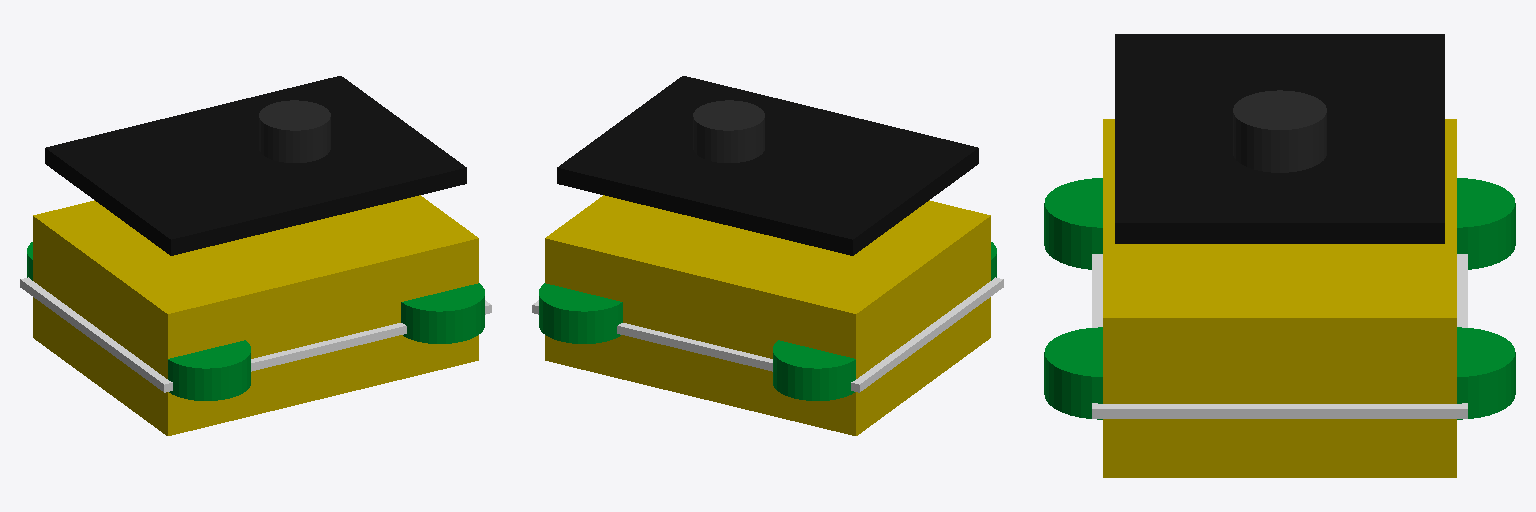
The robot description file, URDF, robot "robie":
<?xml version="1.0" ?>
<robot name="robie">
<link name="base_link">
<visual><geometry><box size="0.40 0.30 0.15"/></geometry><material name="yellow"><color rgba="0.8 0.7 0.0 1.0"/></material></visual>
<collision><geometry><box size="0.40 0.30 0.15"/></geometry></collision>
<inertial><mass value="8.0"/><inertia ixx="0.05" ixy="0.0" ixz="0.0" iyy="0.05" iyz="0.0" izz="0.08"/></inertial>
</link>
<link name="top_plate">
<visual><geometry><box size="0.38 0.28 0.02"/></geometry><material name="black"><color rgba="0.1 0.1 0.1 1.0"/></material></visual>
</link>
<joint name="top_plate_joint" type="fixed"><parent link="base_link"/><child link="top_plate"/><origin xyz="0 0 0.15" rpy="0 0 0"/></joint>
<link name="base_plate">
<visual><geometry><box size="0.42 0.32 0.01"/></geometry><material name="white"><color rgba="0.9 0.9 0.9 1.0"/></material></visual>
</link>
<joint name="base_plate_joint" type="fixed"><parent link="base_link"/><child link="base_plate"/><origin xyz="0 0 -0.01" rpy="0 0 0"/></joint>
<link name="lidar_link">
<visual><geometry><cylinder radius="0.04" length="0.06"/></geometry><material name="lidar_black"><color rgba="0.2 0.2 0.2 1.0"/></material></visual>
</link>
<joint name="lidar_joint" type="fixed"><parent link="top_plate"/><child link="lidar_link"/><origin xyz="0.05 0 0.02" rpy="0 0 0"/></joint>
<link name="front_left_wheel">
<visual><geometry><cylinder radius="0.05" length="0.04"/></geometry><material name="green"><color rgba="0.0 0.6 0.2 1.0"/></material></visual>
</link>
<joint name="front_left_wheel_joint" type="continuous"><parent link="base_link"/><child link="front_left_wheel"/><origin xyz="0.15 0.15 0.0" rpy="0 0 0"/><axis xyz="0 1 0"/></joint>
<link name="front_right_wheel">
<visual><geometry><cylinder radius="0.05" length="0.04"/></geometry><material name="green"><color rgba="0.0 0.6 0.2 1.0"/></material></visual>
</link>
<joint name="front_right_wheel_joint" type="continuous"><parent link="base_link"/><child link="front_right_wheel"/><origin xyz="0.15 -0.15 0.0" rpy="0 0 0"/><axis xyz="0 1 0"/></joint>
<link name="rear_left_wheel">
<visual><geometry><cylinder radius="0.05" length="0.04"/></geometry><material name="green"><color rgba="0.0 0.6 0.2 1.0"/></material></visual>
</link>
<joint name="rear_left_wheel_joint" type="continuous"><parent link="base_link"/><child link="rear_left_wheel"/><origin xyz="-0.15 0.15 0.0" rpy="0 0 0"/><axis xyz="0 1 0"/></joint>
<link name="rear_right_wheel">
<visual><geometry><cylinder radius="0.05" length="0.04"/></geometry><material name="green"><color rgba="0.0 0.6 0.2 1.0"/></material></visual>
</link>
<joint name="rear_right_wheel_joint" type="continuous"><parent link="base_link"/><child link="rear_right_wheel"/><origin xyz="-0.15 -0.15 0.0" rpy="0 0 0"/><axis xyz="0 1 0"/></joint>
<gazebo reference="base_link"><material>Gazebo/Yellow</material></gazebo>
<gazebo reference="lidar_link">
<sensor type="ray" name="rplidar">
<pose>0 0 0.03 0 0 0</pose>
<update_rate>10</update_rate>
<ray>
<scan><horizontal><samples>360</samples><resolution>1</resolution><min_angle>-3.14159</min_angle><max_angle>3.14159</max_angle></horizontal></scan>
<range><min>0.15</min><max>12.0</max><resolution>0.01</resolution></range>
</ray>
<plugin name="gazebo_ros_laser" filename="libgazebo_ros_ray_sensor.so">
<ros><remapping>~/out:=/scan</remapping></ros>
<output_type>sensor_msgs/LaserScan</output_type>
<frame_name>lidar_link</frame_name>
</plugin>
</sensor>
</gazebo>
<gazebo>
<plugin name="mecanum_drive" filename="libgazebo_ros_planar_move.so">
<ros><remapping>cmd_vel:=cmd_vel</remapping><remapping>odom:=odom</remapping></ros>
<update_rate>100</update_rate>
<publish_odom>true</publish_odom>
<publish_odom_tf>true</publish_odom_tf>
<odometry_frame>odom</odometry_frame>
<robot_base_frame>base_link</robot_base_frame>
</plugin>
</gazebo>
</robot>

--- Facts derived from the render (not from the file) ---
The picture shows the robot from 3 angles, left to right: view 1: azimuth 30°, elevation 25°; view 2: azimuth 150°, elevation 25°; view 3: azimuth 270°, elevation 25°; orthographic projection.
Robot: robie — 8 links, 7 joints (4 continuous, 3 fixed); root link base_link; default pose: all joints at 0.
Visible links, largest first — view 1: base_link, top_plate, base_plate, lidar_link, front_right_wheel, rear_right_wheel; view 2: base_link, top_plate, base_plate, lidar_link, front_left_wheel, rear_left_wheel; view 3: base_link, top_plate, base_plate, lidar_link, front_left_wheel, front_right_wheel, rear_left_wheel, rear_right_wheel.
Link boxes in pixels (box(x1,y1,x2,y2)): base_link: box(33, 195, 478, 435); top_plate: box(45, 76, 466, 255); base_plate: box(20, 277, 491, 392); lidar_link: box(259, 100, 330, 162); front_right_wheel: box(401, 283, 484, 343); rear_right_wheel: box(168, 340, 250, 400); base_link: box(545, 195, 990, 435); top_plate: box(557, 76, 978, 255); base_plate: box(532, 277, 1003, 392); lidar_link: box(693, 100, 764, 162); front_left_wheel: box(539, 283, 622, 343); rear_left_wheel: box(773, 340, 855, 400); base_link: box(1103, 119, 1456, 477); top_plate: box(1115, 34, 1444, 243); base_plate: box(1092, 254, 1467, 418); lidar_link: box(1233, 90, 1326, 172); front_left_wheel: box(1457, 327, 1515, 419); front_right_wheel: box(1044, 327, 1102, 419); rear_left_wheel: box(1457, 178, 1515, 269); rear_right_wheel: box(1044, 178, 1102, 269).
Bounding box of the posed robot: 0.42 × 0.4 × 0.275 m (x, y, z).
Geometry: primitives only (box / cylinder / sphere), no mesh files.
